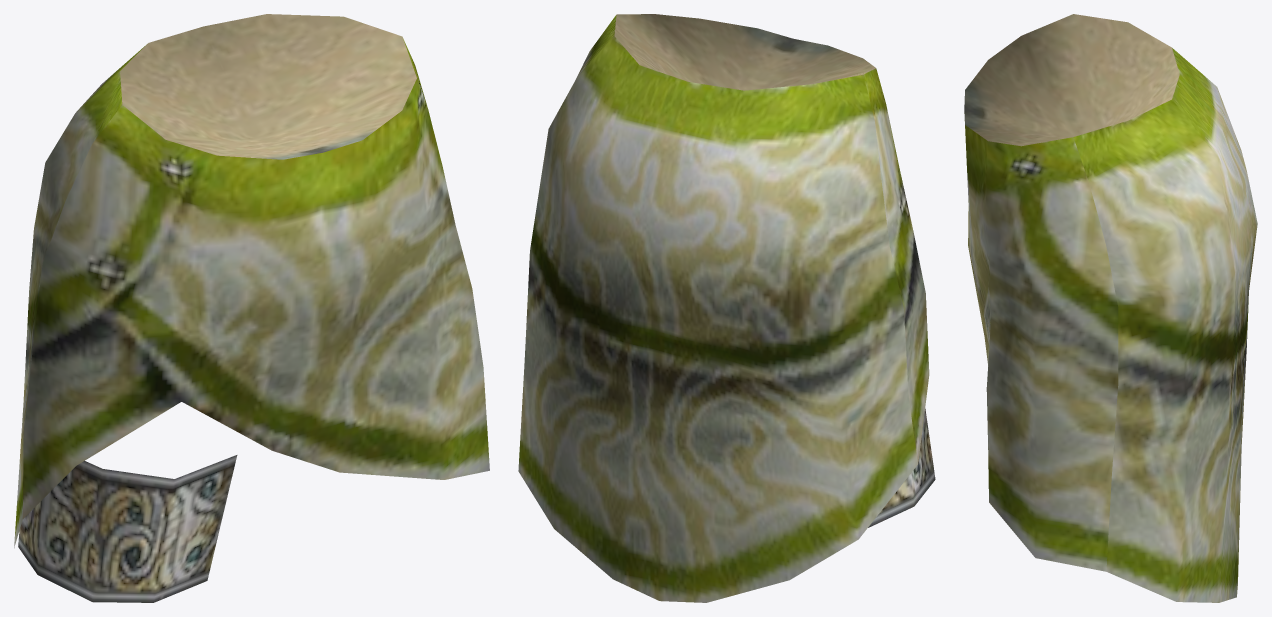
The model's file is clothes_04_la.glb.
3 views of the same model, side by side, from view 1: azimuth 30°, elevation 25°; view 2: azimuth 150°, elevation 25°; view 3: azimuth 270°, elevation 25° (orthographic). The views are drawn at different scales.
Visible parts, largest first — view 1: clothes_04_la; view 2: clothes_04_la; view 3: clothes_04_la.
Boxes of the visible parts, x1=… form: clothes_04_la: x1=14, y1=14, x2=489, y2=602; clothes_04_la: x1=518, y1=14, x2=935, y2=602; clothes_04_la: x1=964, y1=14, x2=1257, y2=602.
Bounding box in the file's own units: 0.3792 × 0.4684 × 0.243.
Materials: 1 (1 with a texture image).
